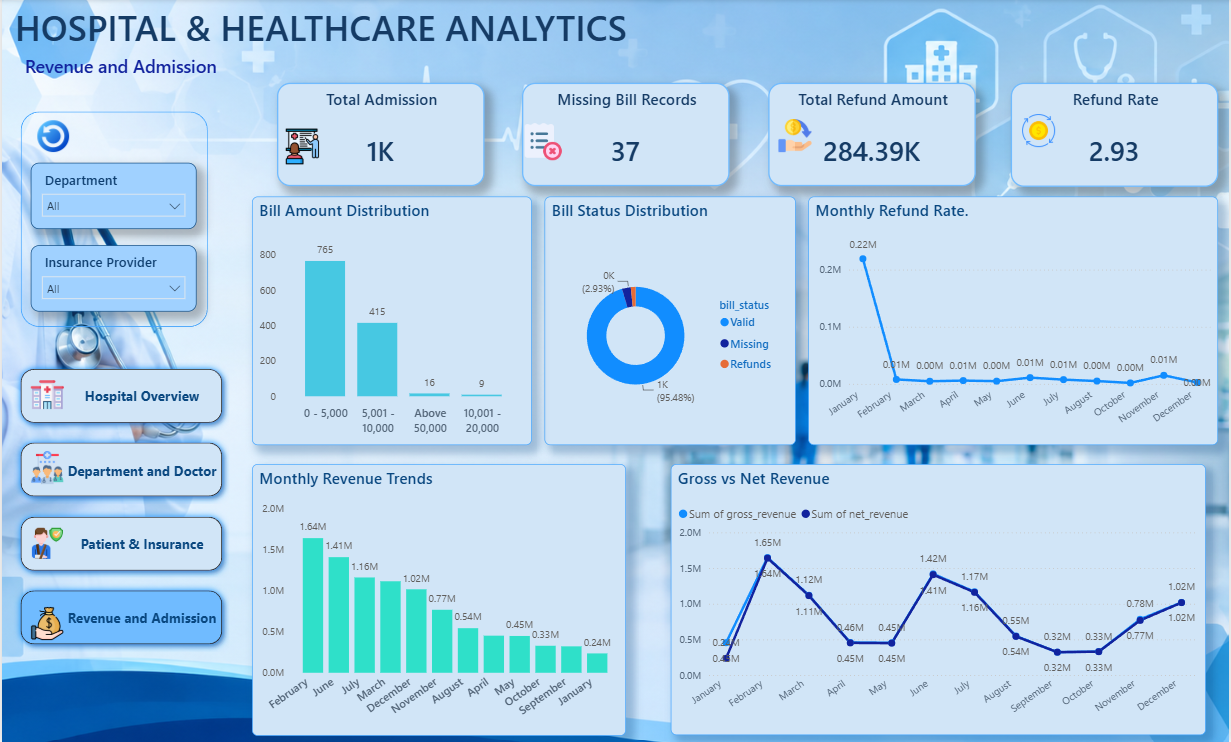

This screenshot's page, from the dashboard's own definition file:
{"tool":"powerbi","page":{"name":"Revenue and Admission","canvas":[1480,900],"ordinal":3},"visuals":[{"type":"shape","box":[22.9,135.7,225.7,260],"z":0},{"type":"textbox","box":[10,0,842.9,71.4],"z":1000},{"type":"textbox","box":[22.9,61.4,241.4,40],"z":2000},{"type":"cardVisual","title":"Total Admission","fields":{"Data":["hospital_overview admission.Total Admissions"]},"box":[331.4,101.4,250,125],"z":3000},{"type":"cardVisual","title":"Missing Bill Records","fields":{"Data":["hospital_overview admission.Missing Bills"]},"box":[627.1,101.4,250,125],"z":4000},{"type":"clusteredColumnChart","title":"Monthly Revenue Trends","fields":{"Category":["hospital_overview monthly_revenue.admission_month"],"Y":["Sum(hospital_overview monthly_revenue.total_rev)"]},"box":[301.6,560.7,450.8,327.9],"z":5000},{"type":"cardVisual","title":"Total Refund Amount","fields":{"Data":["hospital_overview admission.Total Refund"]},"box":[924.3,101.4,250,125],"z":6000},{"type":"cardVisual","title":"Refund Rate","fields":{"Data":["hospital_overview admission.Refund Rate (%)"]},"box":[1217.1,101.4,250,125.7],"z":7000},{"type":"donutChart","title":"Bill Status Distribution","fields":{"Category":["hospital_overview bill_status.bill_status"],"Y":["Sum(hospital_overview bill_status.total_bills)"]},"box":[654.1,237.7,303.3,300],"z":8000},{"type":"clusteredColumnChart","title":"Bill Amount Distribution","fields":{"Category":["hospital_overview bill_amount_distribution.bill_range"],"Y":["Sum(hospital_overview bill_amount_distribution.total_admission)"]},"box":[301.6,237.7,337.7,300],"z":9000},{"type":"pageNavigator","box":[14.3,437.1,261.4,350],"z":10000},{"type":"lineChart","title":"Monthly Refund Rate.","fields":{"Category":["hospital_overview monthly_refund_trend.admission_month"],"Y":["Sum(hospital_overview monthly_refund_trend.total_refund)"]},"box":[972.7,238.3,494.6,300.1],"z":11000},{"type":"lineChart","title":"Gross vs Net Revenue","fields":{"Category":["hospital_overview gross_net.admission_month"],"Y":["Sum(hospital_overview gross_net.gross_revenue)","Sum(hospital_overview gross_net.net_revenue)"]},"box":[806.8,561,645.4,327.2],"z":12000},{"type":"slicer","fields":{"Values":["hospital_overview admission.dept"]},"box":[34.3,197.1,200,80],"z":13000},{"type":"slicer","fields":{"Values":["hospital_overview patient.insurance"]},"box":[34.3,297.1,200,80],"z":14000},{"type":"image","box":[341.4,152.9,42.9,51.4],"z":15000},{"type":"image","box":[932.9,144.3,47.1,40],"z":16000},{"type":"image","box":[1217.1,138.6,67.1,40],"z":17000},{"type":"image","box":[627.1,140,51.4,64.3],"z":18000},{"type":"image","box":[34.3,450,40,55.7],"z":19000},{"type":"image","box":[34.3,542.9,40,44.3],"z":20000},{"type":"image","box":[34.3,632.9,40,47.1],"z":21000},{"type":"image","box":[34.3,724.3,40,58.6],"z":22000},{"type":"image","box":[22.9,145.7,78.6,38.6],"z":23000}]}

Visuals, with their boxes in screenshot pixels (x1, y1, x2, y2), scaled from the page's 1480x900 canvas onto the 1231x742 screenshot:
shape: detection(19, 112, 207, 326)
textbox: detection(8, 0, 709, 59)
textbox: detection(19, 51, 220, 84)
"Total Admission" cardVisual: detection(276, 84, 484, 187)
"Missing Bill Records" cardVisual: detection(522, 84, 730, 187)
"Monthly Revenue Trends" clusteredColumnChart: detection(251, 462, 626, 733)
"Total Refund Amount" cardVisual: detection(769, 84, 977, 187)
"Refund Rate" cardVisual: detection(1012, 84, 1220, 187)
"Bill Status Distribution" donutChart: detection(544, 196, 796, 443)
"Bill Amount Distribution" clusteredColumnChart: detection(251, 196, 532, 443)
pageNavigator: detection(12, 360, 229, 649)
"Monthly Refund Rate." lineChart: detection(809, 196, 1220, 444)
"Gross vs Net Revenue" lineChart: detection(671, 463, 1208, 732)
slicer - hospital_overview admission.dept: detection(29, 162, 195, 228)
slicer - hospital_overview patient.insurance: detection(29, 245, 195, 311)
image: detection(284, 126, 320, 168)
image: detection(776, 119, 815, 152)
image: detection(1012, 114, 1068, 147)
image: detection(522, 115, 564, 168)
image: detection(29, 371, 62, 417)
image: detection(29, 448, 62, 484)
image: detection(29, 522, 62, 561)
image: detection(29, 597, 62, 645)
image: detection(19, 120, 84, 152)
